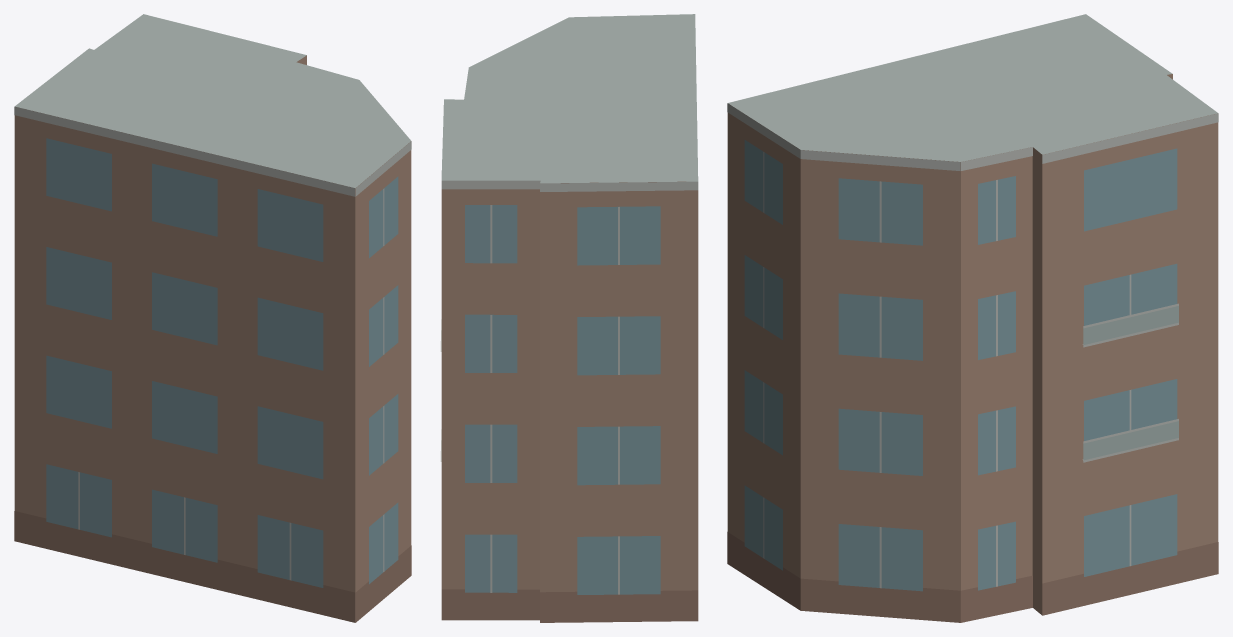
Rendered from survey-upis-32508808.glb.
3 renders of one model, left to right at view 1: azimuth 30°, elevation 25°; view 2: azimuth 150°, elevation 25°; view 3: azimuth 270°, elevation 25°, orthographic. The views are drawn at different scales.
Visible parts, largest first — view 1: survey-upis-32508808.tmp; view 2: survey-upis-32508808.tmp; view 3: survey-upis-32508808.tmp.
Boxes of the visible parts, left/top/right/bottom form: survey-upis-32508808.tmp: left=14, top=14, right=411, bottom=622; survey-upis-32508808.tmp: left=440, top=14, right=698, bottom=622; survey-upis-32508808.tmp: left=727, top=14, right=1218, bottom=622.
Size of the model in its own units: 8.41 by 12.2 by 11.79.
